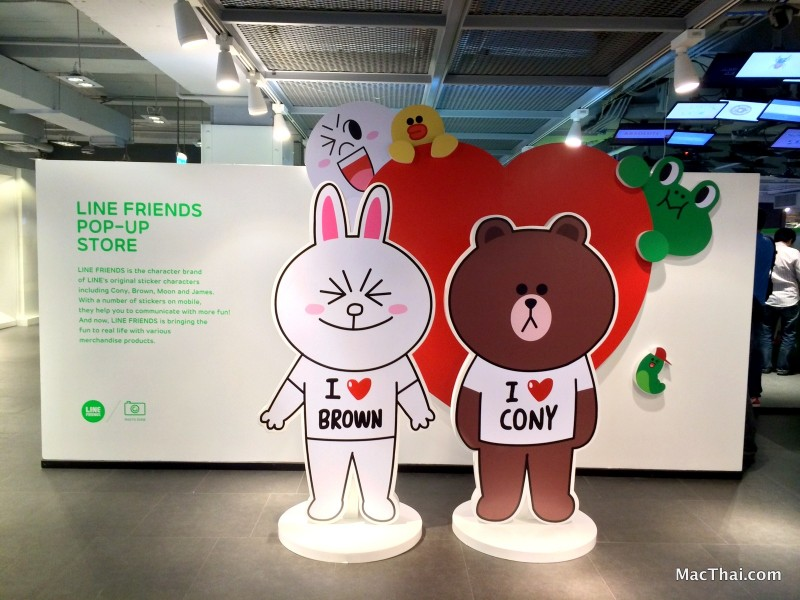line_brown: (439, 209, 625, 373)
